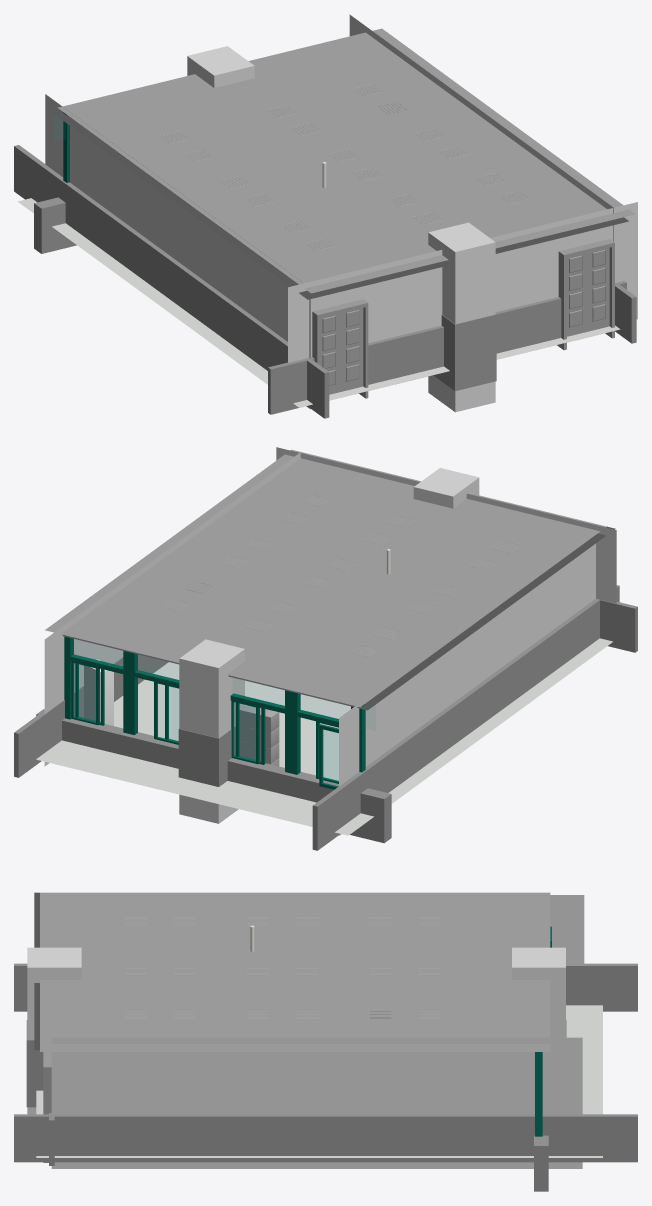
The model's file is jiaoshi_01.fbx.
3 renders of one model, top to bottom at view 1: azimuth 30°, elevation 25°; view 2: azimuth 150°, elevation 25°; view 3: azimuth 270°, elevation 25°, orthographic. The views are drawn at different scales.
Parts seen in each view (by area): view 1: pPlane26, pPlane5, pPlane2, pCube129, pCube130, pCube139, polySurface9475, ground, polySurface9474, pPlane6, pCube140, pPlane3 (+3 smaller); view 2: pPlane26, ground, pPlane2, pCube129, pCube127, pCube131, pPlane3, pCube128, pPlane5, pPlane6, pCube138, pCube139 (+10 smaller); view 3: pPlane26, pPlane3, pCube128, ground, pCube129, pCube131, pPlane2, pCube139, pCube140, pCube127, pPlane6, pCube136 (+1 smaller).
Part boxes in pixels (x1,y1,x2,y2): pPlane26: (58, 28, 635, 293); pPlane5: (288, 202, 637, 362); pPlane2: (45, 94, 310, 409); pCube129: (14, 145, 329, 418); pCube130: (268, 281, 626, 414); pCube139: (428, 222, 495, 412); polySurface9475: (557, 239, 614, 350); ground: (17, 198, 620, 407); polySurface9474: (312, 299, 368, 398); pPlane6: (53, 111, 628, 299); pCube140: (433, 314, 496, 391); pPlane3: (349, 14, 613, 241); pPlane26: (45, 449, 606, 707); ground: (36, 638, 612, 835); pPlane2: (339, 530, 595, 835); pCube129: (312, 585, 619, 850); pCube127: (36, 709, 391, 843); pCube131: (179, 639, 244, 823); pPlane3: (44, 452, 301, 766); pCube128: (14, 654, 168, 777); pPlane5: (276, 447, 616, 603); pPlane6: (62, 526, 615, 710); pCube138: (178, 726, 235, 786); pCube139: (413, 468, 479, 508); pPlane26: (40, 892, 550, 1051); pPlane3: (51, 1037, 582, 1168); pCube128: (14, 1114, 637, 1162); ground: (36, 1005, 602, 1157); pCube129: (14, 963, 637, 1011); pCube131: (512, 947, 565, 1037); pPlane2: (51, 895, 584, 965); pCube139: (27, 947, 81, 1114); pCube140: (26, 1020, 43, 1107); pCube127: (534, 1135, 548, 1191); pPlane6: (34, 892, 39, 1050); pCube136: (535, 1052, 542, 1136).
Size of the model in its own units: 50.31 by 22.38 by 73.14.
